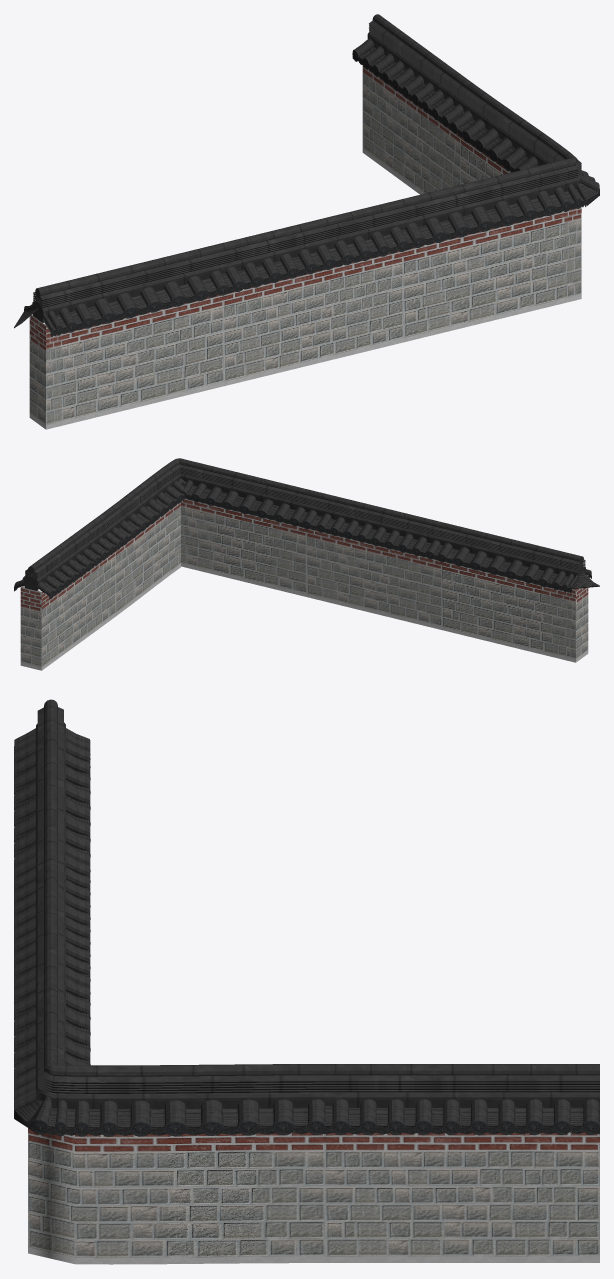
Rendered from SM_DG_HG_StoneWallH_Splines_8.fbx.
3 views of the same model, one above another, from view 1: azimuth 30°, elevation 25°; view 2: azimuth 150°, elevation 25°; view 3: azimuth 270°, elevation 25° (orthographic). The views are drawn at different scales.
Visible parts, largest first — view 1: SM_DG_HG_StoneWallH_Splines_8; view 2: SM_DG_HG_StoneWallH_Splines_8; view 3: SM_DG_HG_StoneWallH_Splines_8.
Part boxes in pixels (bbox=[...]): SM_DG_HG_StoneWallH_Splines_8: bbox=[14, 14, 599, 429]; SM_DG_HG_StoneWallH_Splines_8: bbox=[14, 458, 599, 670]; SM_DG_HG_StoneWallH_Splines_8: bbox=[14, 699, 599, 1264].
Size of the model in its own units: 807 by 502 by 178.
